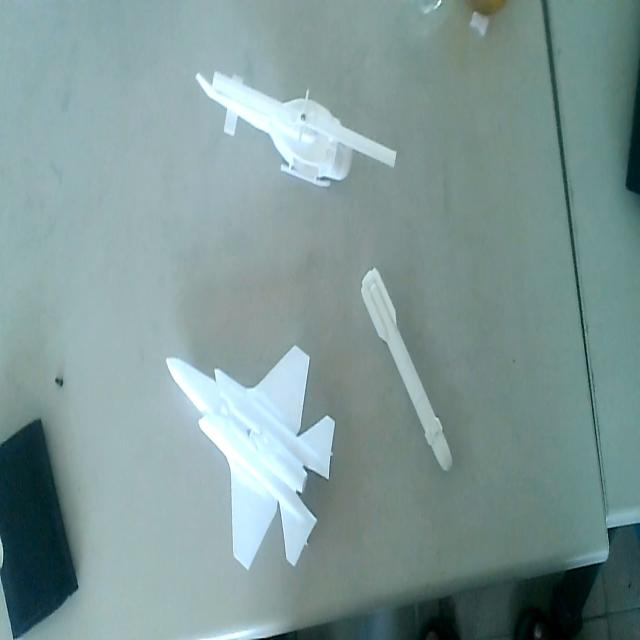Helicopter: (197, 58, 402, 204)
Jet: (162, 332, 338, 576)
Rocket: (358, 256, 456, 479)
